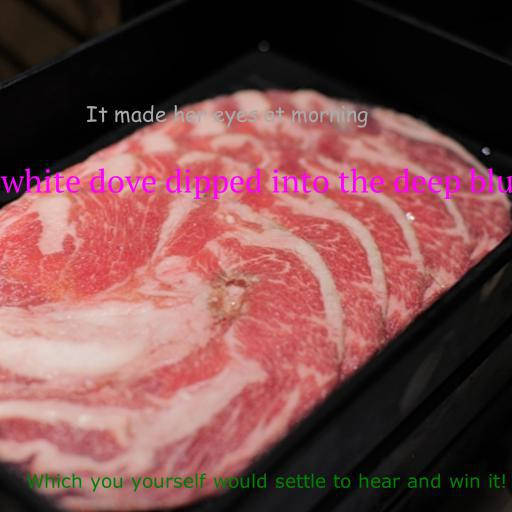Comic Sans MS: (86, 104, 368, 128)
PT Serif: (0, 168, 512, 200)
Verdana: (25, 473, 507, 492)
